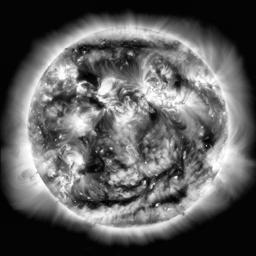solar flares: (144, 83, 188, 111), (63, 110, 95, 134), (112, 103, 139, 127), (62, 153, 86, 170), (205, 145, 222, 169), (94, 77, 116, 94), (58, 66, 75, 82)
sunspots: (77, 192, 141, 207), (156, 163, 185, 181), (167, 62, 185, 89), (76, 65, 98, 84), (201, 122, 214, 151), (49, 92, 72, 108), (75, 42, 103, 55), (114, 40, 147, 51), (90, 151, 105, 174), (154, 193, 192, 202), (147, 108, 164, 128), (84, 94, 105, 108), (95, 113, 105, 134)
